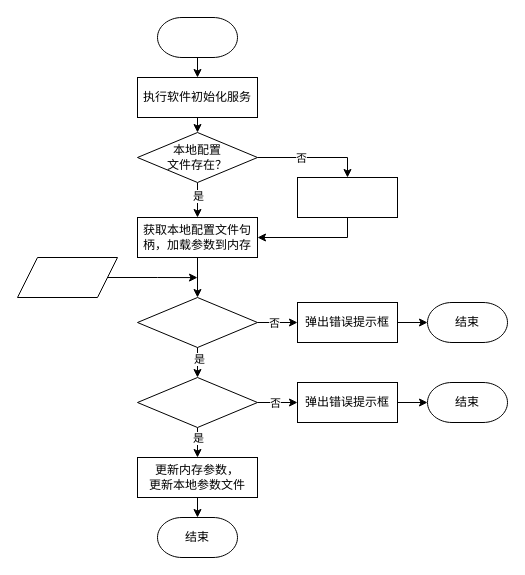
Image size: 525x575. Some labels were removed from this diagram. Here are the shapes that lost their labels. From the top down, the centre of each, then its label:
At pixel 197 37: "开始".
At pixel 347 197: "创建配置文件".
At pixel 67 277: "点击更新 参数按钮".
At pixel 197 322: "检查输入参数 是 否为合法数字？".
At pixel 197 402: "检查输入参数 是 否符合范围？".
